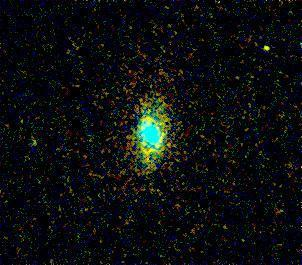star: (250, 38, 280, 68)
